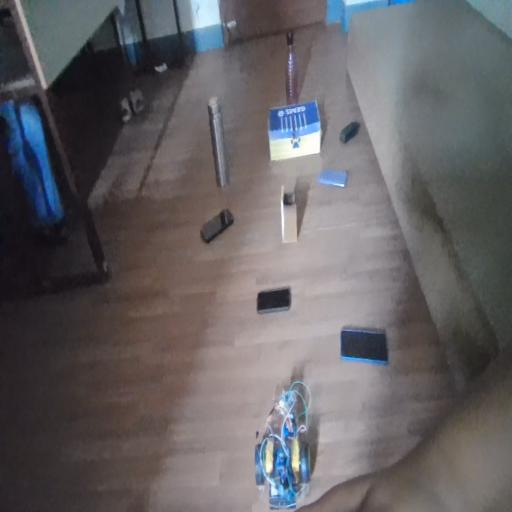Bottle: (275, 7, 307, 102)
car: (241, 386, 333, 496)
